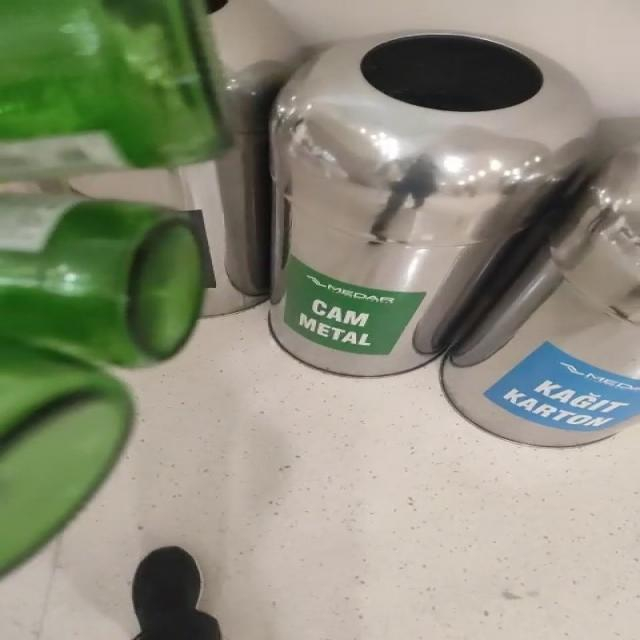glass: (0, 190, 208, 572), (1, 0, 228, 180)
